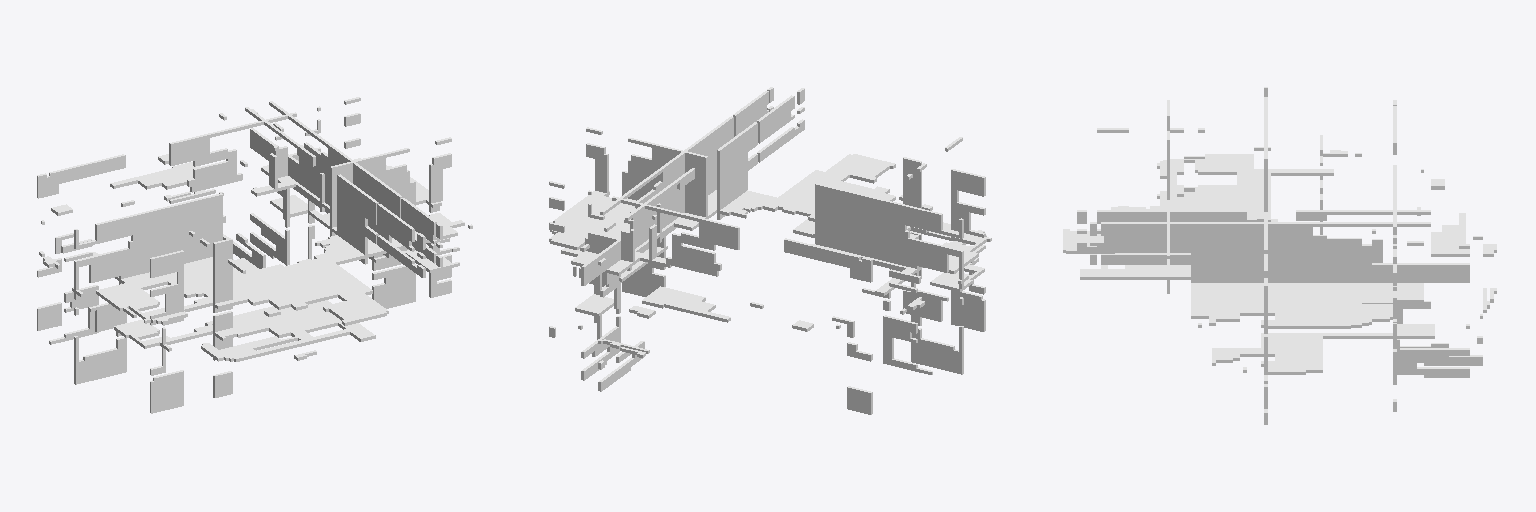
3 views of the same model, side by side, from view 1: azimuth 30°, elevation 25°; view 2: azimuth 150°, elevation 25°; view 3: azimuth 270°, elevation 25° (orthographic).
Visible parts, largest first — view 1: 黄光; view 2: 黄光; view 3: 黄光.
Part boxes in pixels (left/top/right/bottom): 黄光: left=37, top=97, right=472, bottom=413; 黄光: left=549, top=87, right=991, bottom=414; 黄光: left=1063, top=87, right=1496, bottom=424.
Bounding box in the file's own units: 125 × 49 × 125.